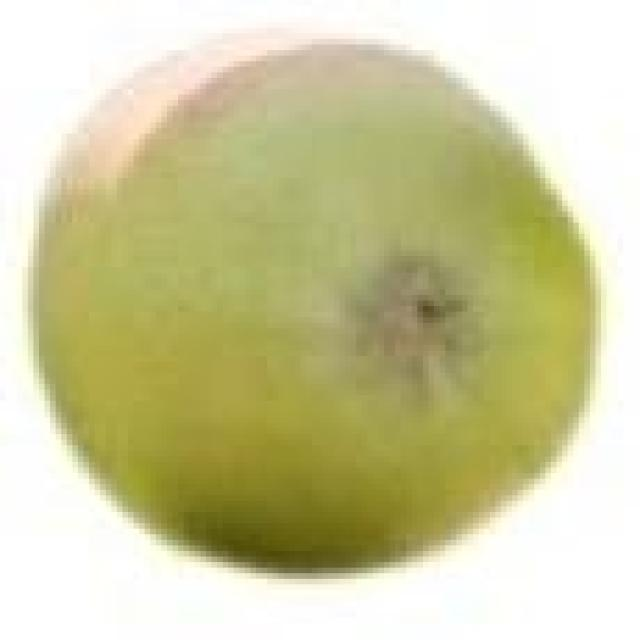Rotten Apple: (33, 28, 601, 579)
